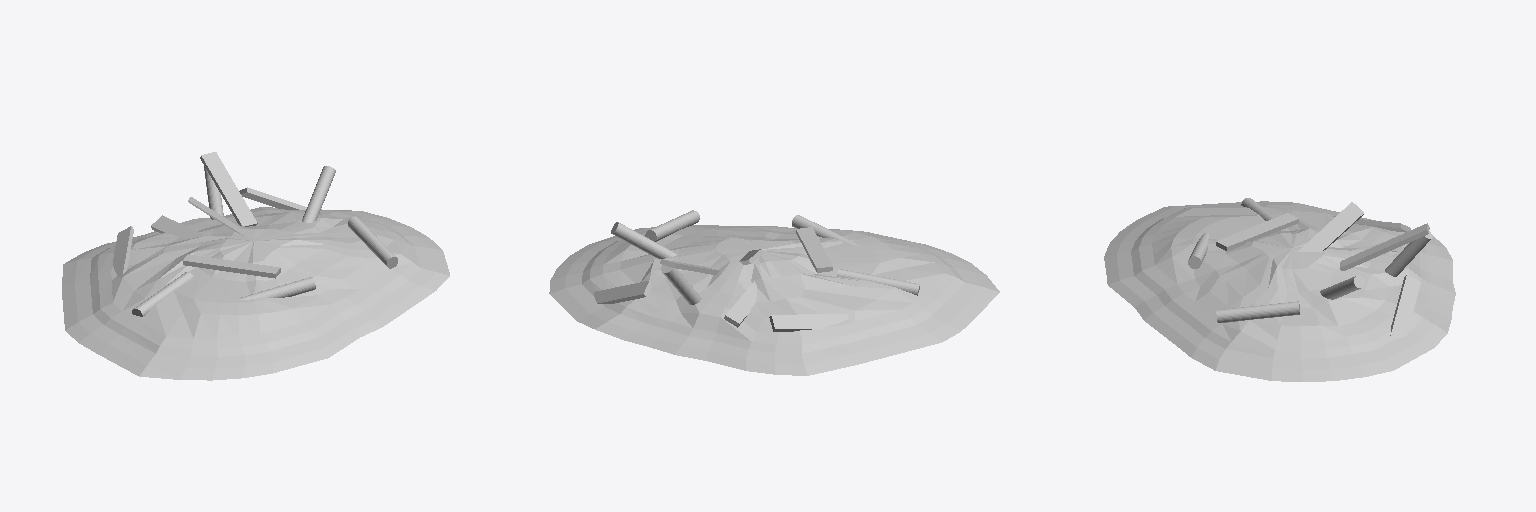
The model's file is Destroyed_Building.obj.
3 renders of one model, left to right at view 1: azimuth 30°, elevation 25°; view 2: azimuth 150°, elevation 25°; view 3: azimuth 270°, elevation 25°, orthographic.
Visible parts, largest first — view 1: Sphere, Cube.004_Cube.005, Cube.001_Cube.002, Cylinder.004, Cylinder, Cylinder.003, Cube.002_Cube.003, Cylinder.002, Cube.005_Cube.006, Cube.003_Cube.004; view 2: Sphere, Cube.002_Cube.003, Cylinder, Cube.001_Cube.002, Cube.005_Cube.006, Cylinder.004, Cube.003_Cube.004, Cylinder.002, Cylinder.001, Cylinder.003; view 3: Sphere, Cube_Cube.001, Cylinder.004, Cube.001_Cube.002, Cube.005_Cube.006, Cube.004_Cube.005, Cylinder.001, Cylinder.
Boxes of the visible parts, <box> form: Sphere: <box>62,207,449,380</box>; Cube.004_Cube.005: <box>200,152,257,226</box>; Cube.001_Cube.002: <box>183,254,280,278</box>; Cylinder.004: <box>348,216,397,268</box>; Cylinder: <box>302,166,335,222</box>; Cylinder.003: <box>237,277,315,299</box>; Cube.002_Cube.003: <box>113,226,133,275</box>; Cylinder.002: <box>132,272,193,316</box>; Cube.005_Cube.006: <box>239,187,306,209</box>; Cube.003_Cube.004: <box>151,215,206,237</box>; Sphere: <box>549,225,999,375</box>; Cube.002_Cube.003: <box>769,314,848,331</box>; Cylinder: <box>611,222,676,258</box>; Cube.001_Cube.002: <box>796,227,832,272</box>; Cube.005_Cube.006: <box>594,280,652,303</box>; Cylinder.004: <box>645,210,699,241</box>; Cube.003_Cube.004: <box>724,281,756,327</box>; Cylinder.002: <box>837,269,919,295</box>; Cylinder.001: <box>661,265,701,304</box>; Cylinder.003: <box>792,215,859,245</box>; Sphere: <box>1104,201,1455,381</box>; Cube_Cube.001: <box>1298,202,1363,251</box>; Cylinder.004: <box>1216,301,1299,322</box>; Cube.001_Cube.002: <box>1216,213,1298,251</box>; Cube.005_Cube.006: <box>1390,274,1420,338</box>; Cube.004_Cube.005: <box>1340,223,1429,270</box>; Cylinder.001: <box>1385,231,1432,276</box>; Cylinder: <box>1320,275,1364,299</box>.
Bounding box in the file's own units: 3.04 × 0.6664 × 2.5.